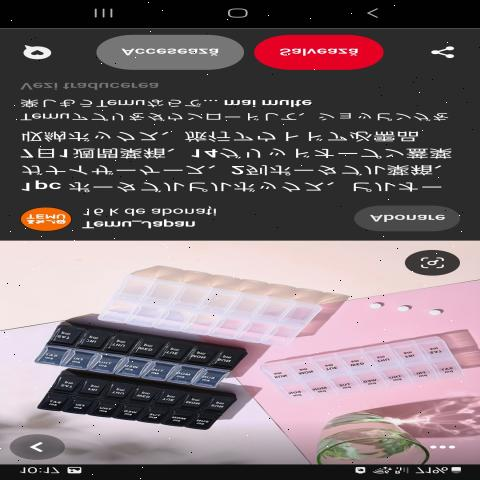PillBox: (18, 325, 259, 390), (38, 382, 274, 432)
